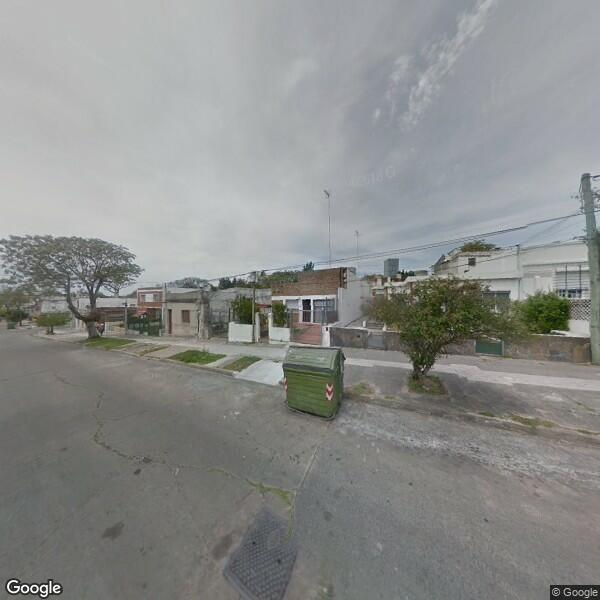Trash: (285, 342, 347, 419)
